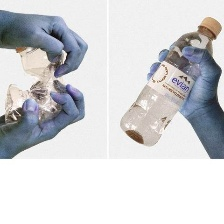bottle: (116, 13, 224, 150), (0, 30, 74, 132)
